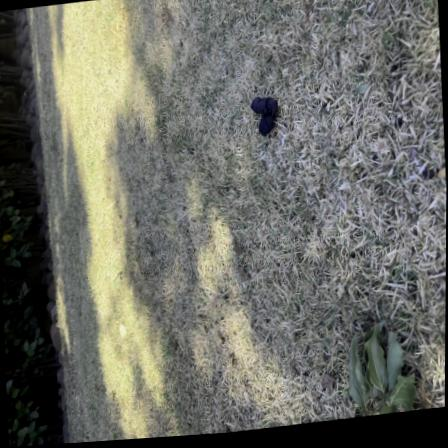dog-poop: (246, 94, 287, 149)
